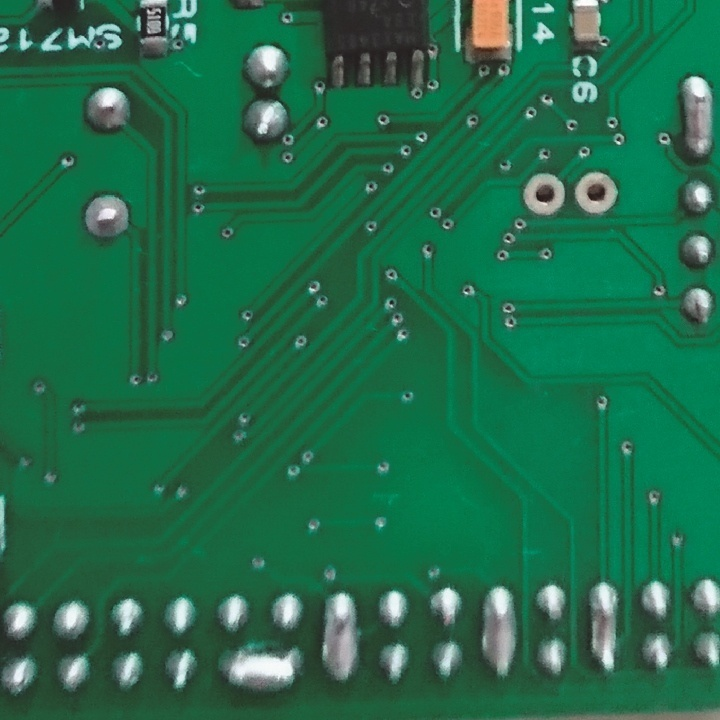F: (81, 191, 132, 240), (520, 169, 568, 218), (573, 170, 621, 219)
P: (214, 646, 311, 694), (478, 579, 521, 683), (582, 575, 624, 675), (319, 590, 362, 686), (678, 71, 715, 166)
